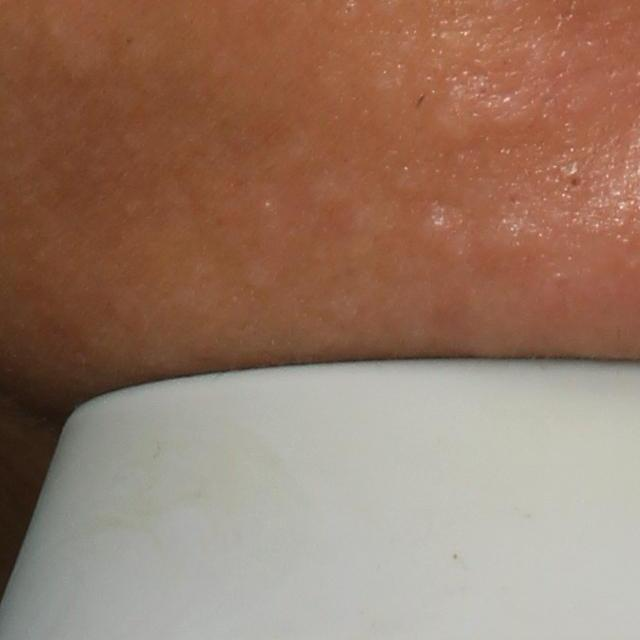comedo: (560, 166, 588, 195)
hypertrophic_scar: (433, 74, 541, 147)
